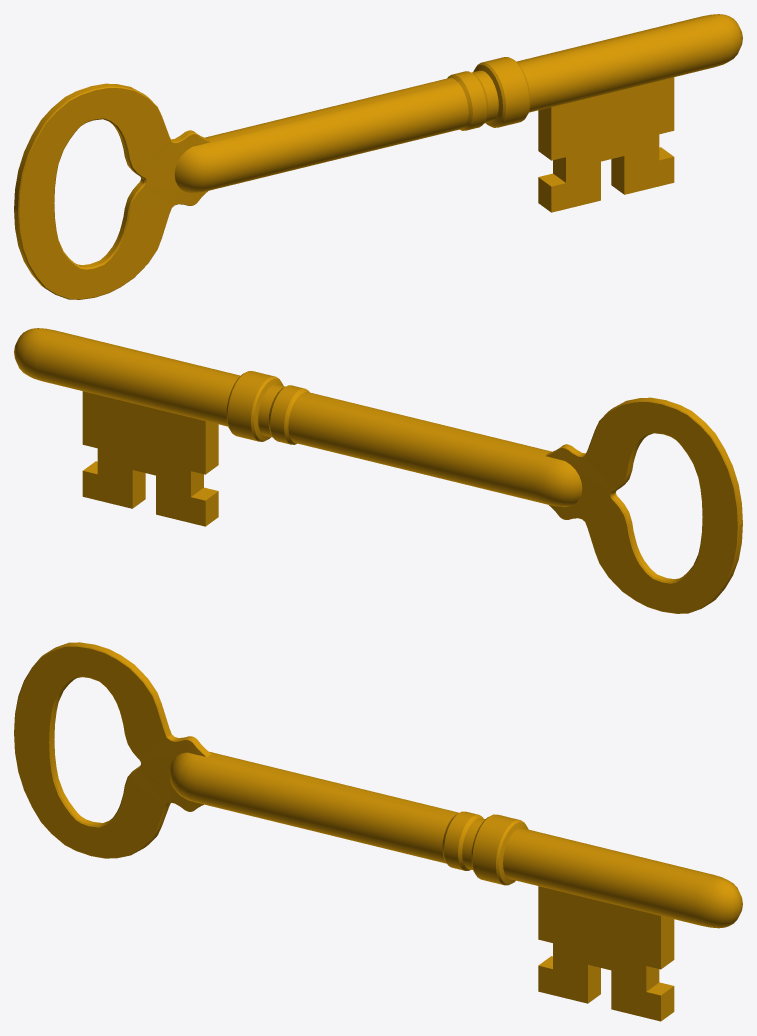
Rendered from AR_Key_V1.fbx.
3 renders of one model, top to bottom at view 1: azimuth 30°, elevation 25°; view 2: azimuth 150°, elevation 25°; view 3: azimuth 330°, elevation 25°, orthographic.
Parts seen in each view (by area): view 1: Key_Visual; view 2: Key_Visual; view 3: Key_Visual.
Boxes of the visible parts, left/top/right/bottom form: Key_Visual: left=14, top=14, right=742, bottom=299; Key_Visual: left=14, top=328, right=742, bottom=613; Key_Visual: left=14, top=642, right=742, bottom=1021.
Bounding box in the file's own units: 420 × 128 × 33.74.
